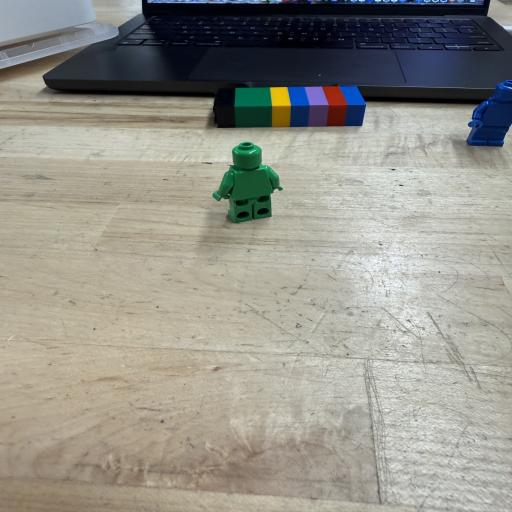blue-minifig: (467, 81, 512, 146)
green-minifig: (213, 142, 282, 223)
